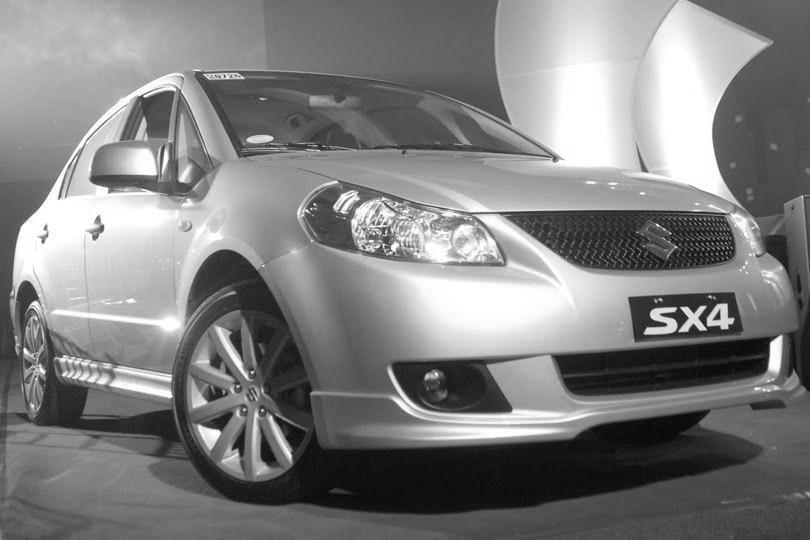car: (6, 63, 806, 510)
